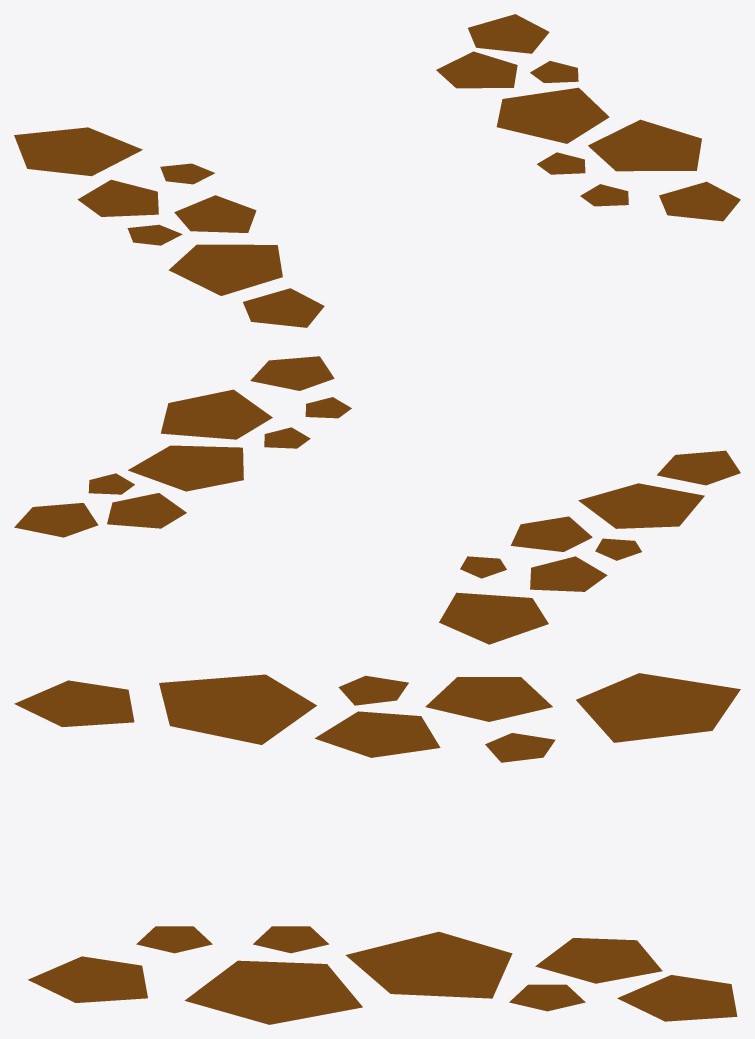
Rendered from dalles.FBX.
The picture shows the model from 3 angles, top to bottom: view 1: azimuth 30°, elevation 25°; view 2: azimuth 150°, elevation 25°; view 3: azimuth 270°, elevation 25°; orthographic projection. The views are drawn at different scales.
Visible parts, largest first — view 1: Plane125, Plane130, Plane120, Plane121, Plane124, Plane127, Plane117, Plane131, Plane118, Plane128, Plane126, Plane129 (+3 smaller); view 2: Plane120, Plane121, Plane130, Plane125, Plane128, Plane118, Plane127, Plane117, Plane131, Plane124, Plane122, Plane119 (+3 smaller); view 3: Plane120, Plane121, Plane130, Plane125, Plane117, Plane124, Plane131, Plane128, Plane118, Plane127, Plane122, Plane119 (+3 smaller).
Boxes of the visible parts, box(x1,y1,x2,y2) form: Plane125: box(14, 127, 142, 176); Plane130: box(168, 244, 282, 295); Plane120: box(496, 87, 609, 143); Plane121: box(588, 119, 701, 171); Plane124: box(659, 181, 740, 221); Plane127: box(77, 179, 158, 216); Plane117: box(468, 14, 549, 53); Plane131: box(243, 288, 324, 327); Plane118: box(436, 51, 517, 88); Plane128: box(174, 195, 256, 232); Plane126: box(160, 163, 214, 184); Plane129: box(127, 224, 182, 245); Plane120: box(128, 445, 243, 491); Plane121: box(160, 389, 272, 439); Plane130: box(578, 483, 704, 528); Plane125: box(439, 592, 548, 644); Plane128: box(510, 516, 592, 551); Plane118: box(107, 493, 186, 528); Plane127: box(530, 556, 607, 591); Plane117: box(14, 503, 98, 537); Plane131: box(657, 450, 740, 485); Plane124: box(250, 356, 334, 390); Plane122: box(264, 427, 310, 448); Plane119: box(88, 473, 134, 494); Plane120: box(345, 931, 512, 998); Plane121: box(184, 960, 362, 1024); Plane130: box(159, 674, 316, 744); Plane125: box(576, 673, 740, 742); Plane117: box(617, 975, 737, 1021); Plane124: box(28, 956, 147, 1002); Plane131: box(14, 680, 134, 727); Plane128: box(314, 711, 440, 757); Plane118: box(535, 938, 662, 983); Plane127: box(425, 677, 552, 721); Plane122: box(253, 926, 328, 953); Plane119: box(509, 984, 585, 1011).
Bounding box in the file's own units: 289 × 3.55e-15 × 252.
